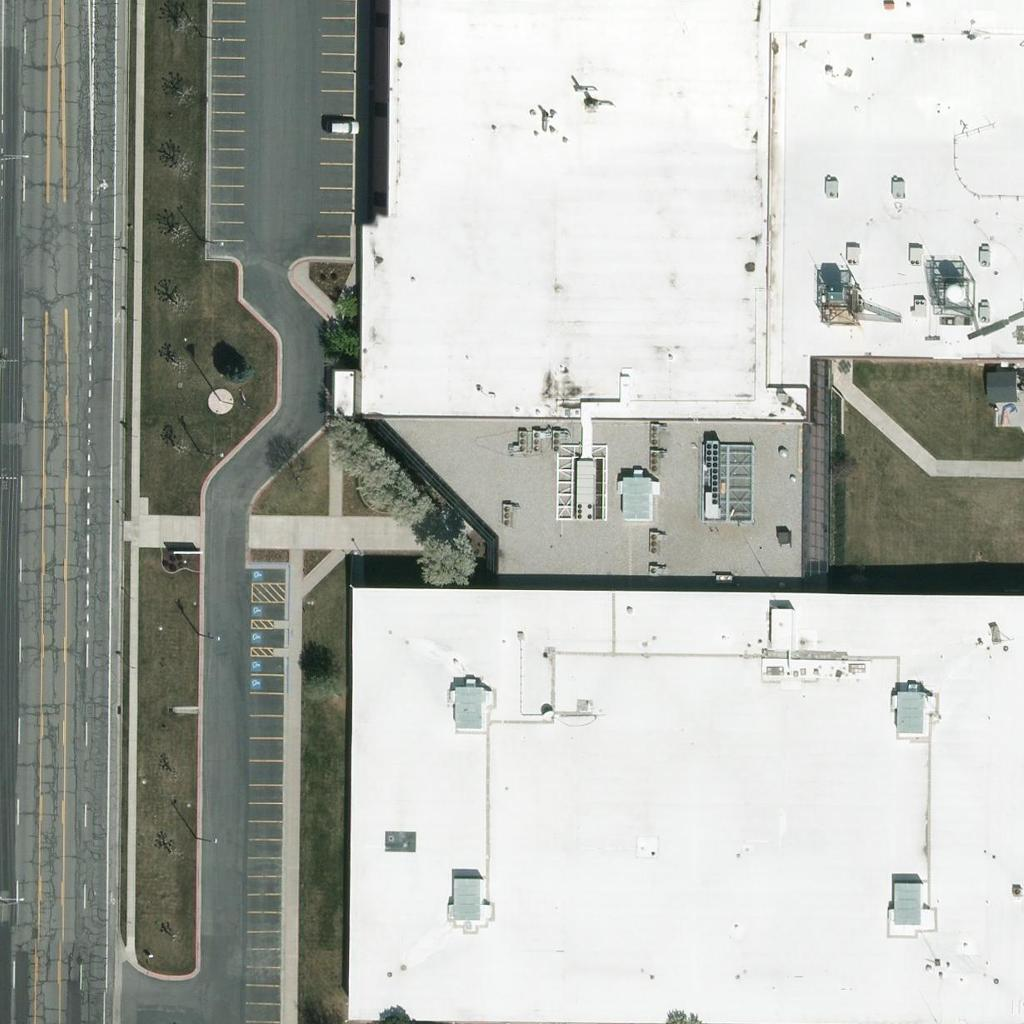car: (326, 109, 360, 143)
